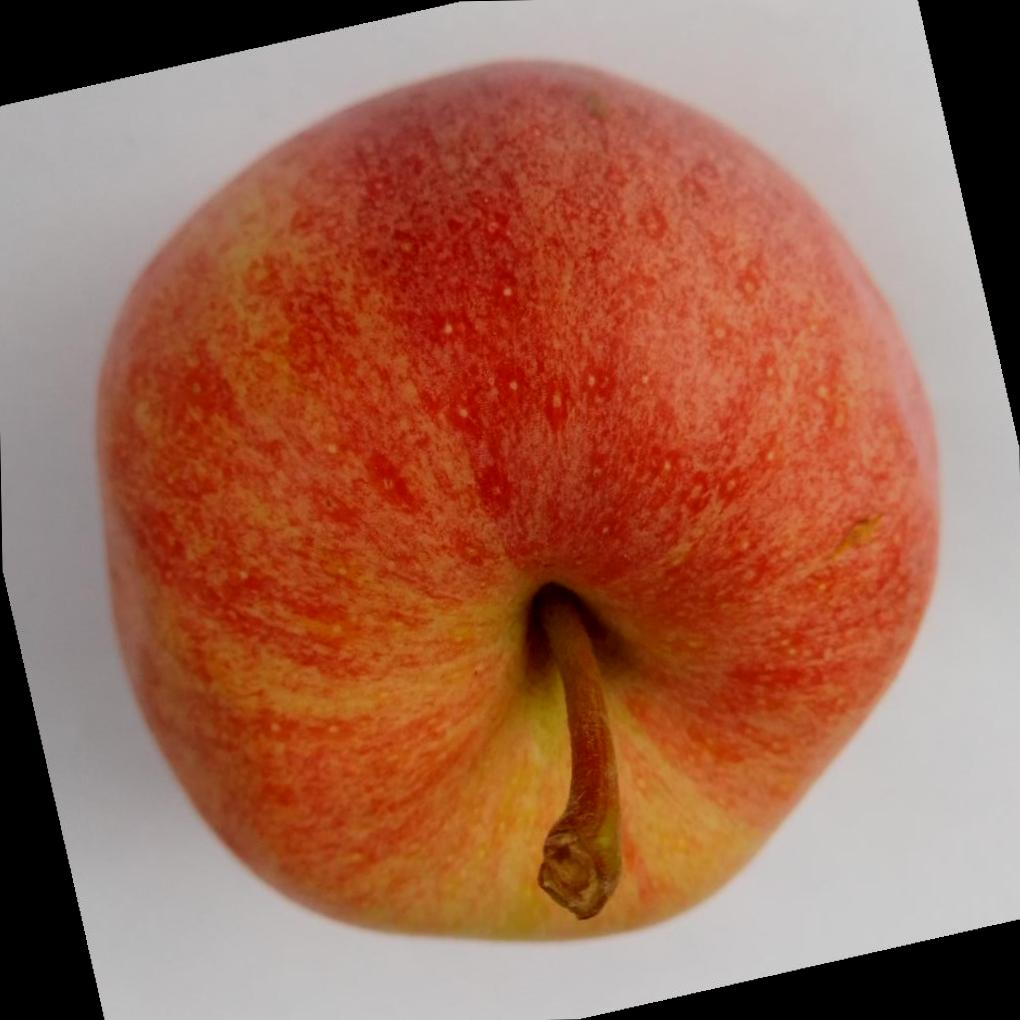FreshGuava: (88, 55, 939, 945)
